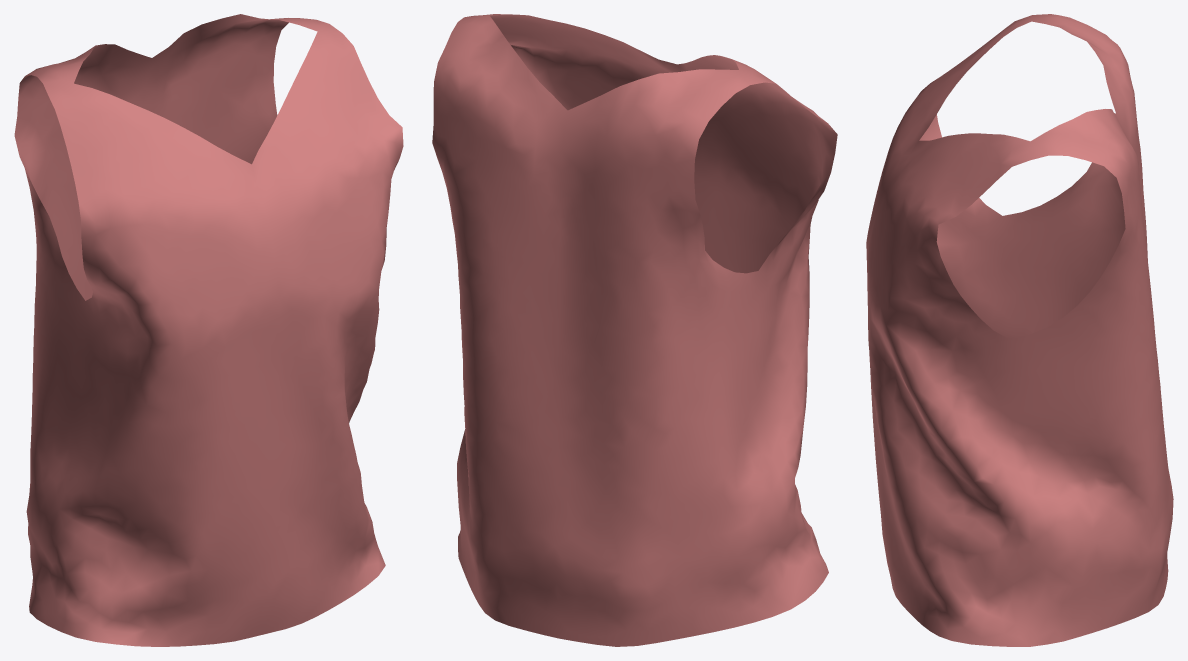
Rendered from osnova.glb.
3 renders of one model, left to right at view 1: azimuth 30°, elevation 25°; view 2: azimuth 150°, elevation 25°; view 3: azimuth 270°, elevation 25°, orthographic. The views are drawn at different scales.
Visible parts, largest first — view 1: Pattern2D_67104, Pattern2D_67100, Pattern2D_67103, Pattern2D_67101; view 2: Pattern2D_67103, Pattern2D_67101, Pattern2D_67104, Pattern2D_67100; view 3: Pattern2D_67100, Pattern2D_67101, Pattern2D_67103, Pattern2D_67104.
Part boxes in pixels (left/top/right/bottom): Pattern2D_67104: left=37, top=83, right=279, bottom=646; Pattern2D_67100: left=252, top=31, right=403, bottom=632; Pattern2D_67103: left=14, top=44, right=151, bottom=618; Pattern2D_67101: left=143, top=14, right=341, bottom=164; Pattern2D_67103: left=554, top=69, right=804, bottom=646; Pattern2D_67101: left=432, top=15, right=567, bottom=638; Pattern2D_67104: left=677, top=55, right=837, bottom=600; Pattern2D_67100: left=465, top=14, right=703, bottom=222; Pattern2D_67100: left=867, top=133, right=1030, bottom=646; Pattern2D_67101: left=1009, top=109, right=1173, bottom=646; Pattern2D_67103: left=1002, top=14, right=1147, bottom=339; Pattern2D_67104: left=866, top=15, right=1031, bottom=542.
Bounding box in the file's own units: 0.3696 × 0.5704 × 0.3117.
